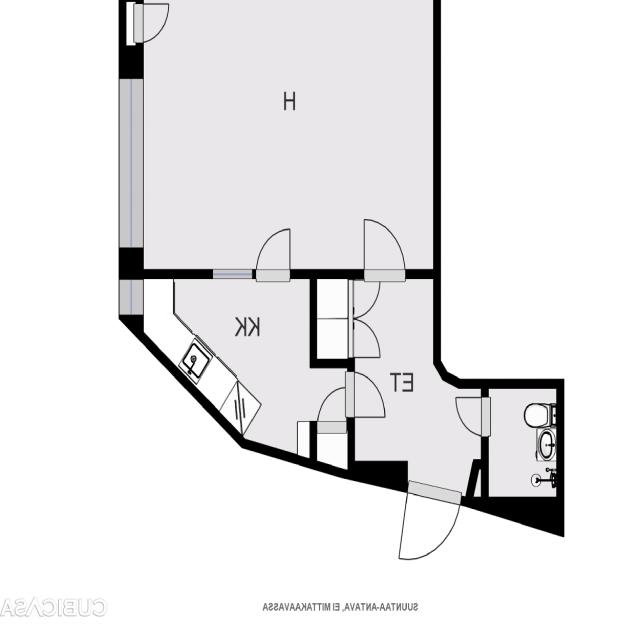door: (399, 482, 462, 574), (364, 213, 406, 278), (347, 372, 389, 417), (256, 224, 290, 278), (136, 3, 174, 42), (452, 396, 488, 436), (347, 318, 383, 356), (347, 282, 383, 318), (318, 386, 344, 431)
